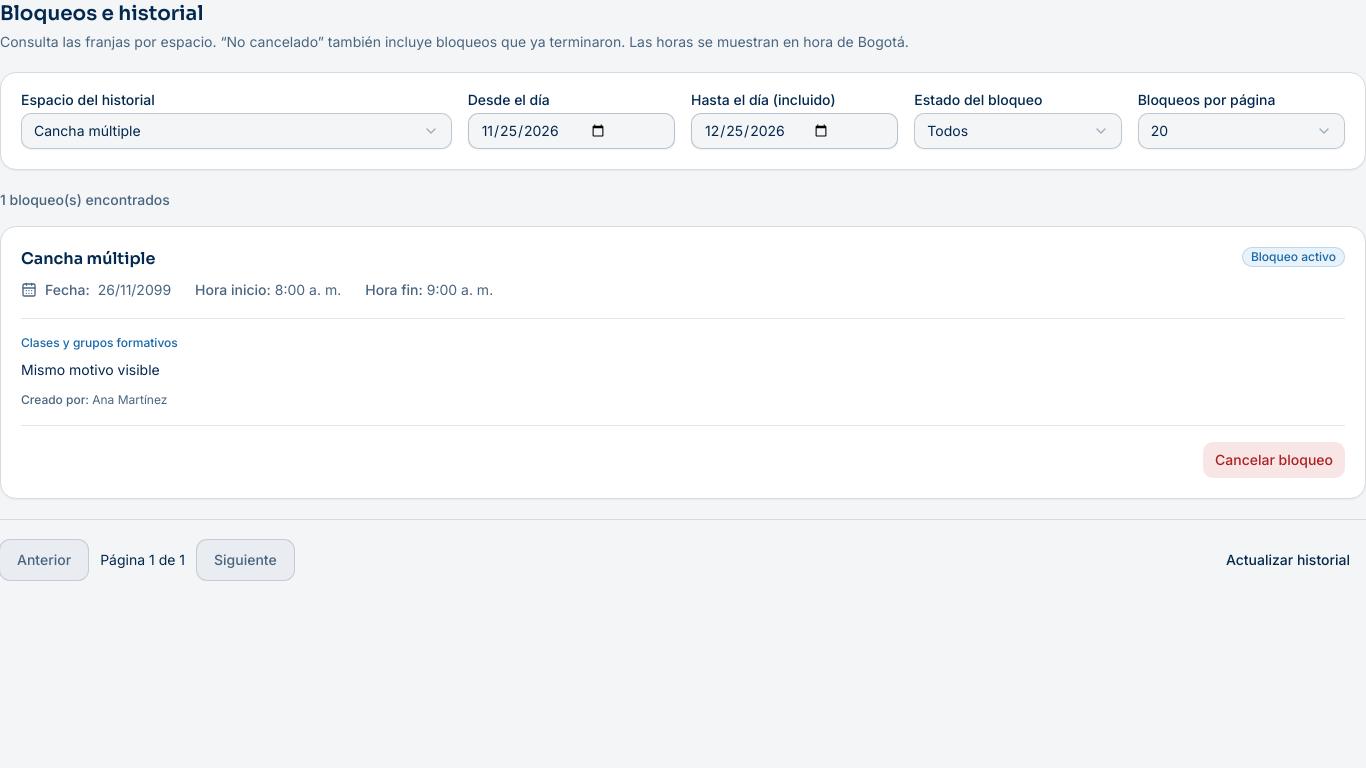
presenta el error 404 BLOCK_NOT_FOUND sin anunciar éxito
This screenshot has width=1366, height=768.
Click the button "Cancelar bloqueo". click: {"x": 1274, "y": 460}
box: [1203,442,1345,478]
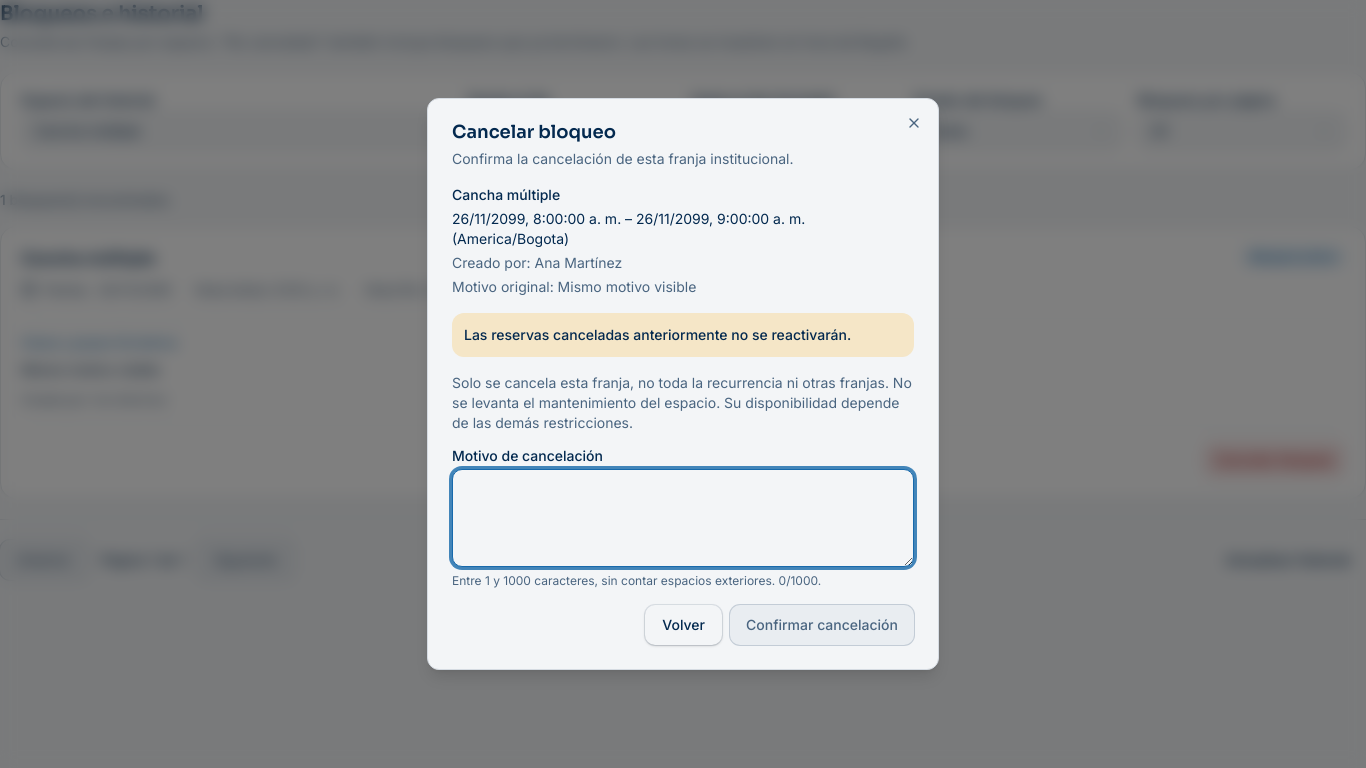
Type "Motivo" into the text box labelled "Motivo de cancelación". click: {"x": 683, "y": 518}
box: [452,469,914,567]
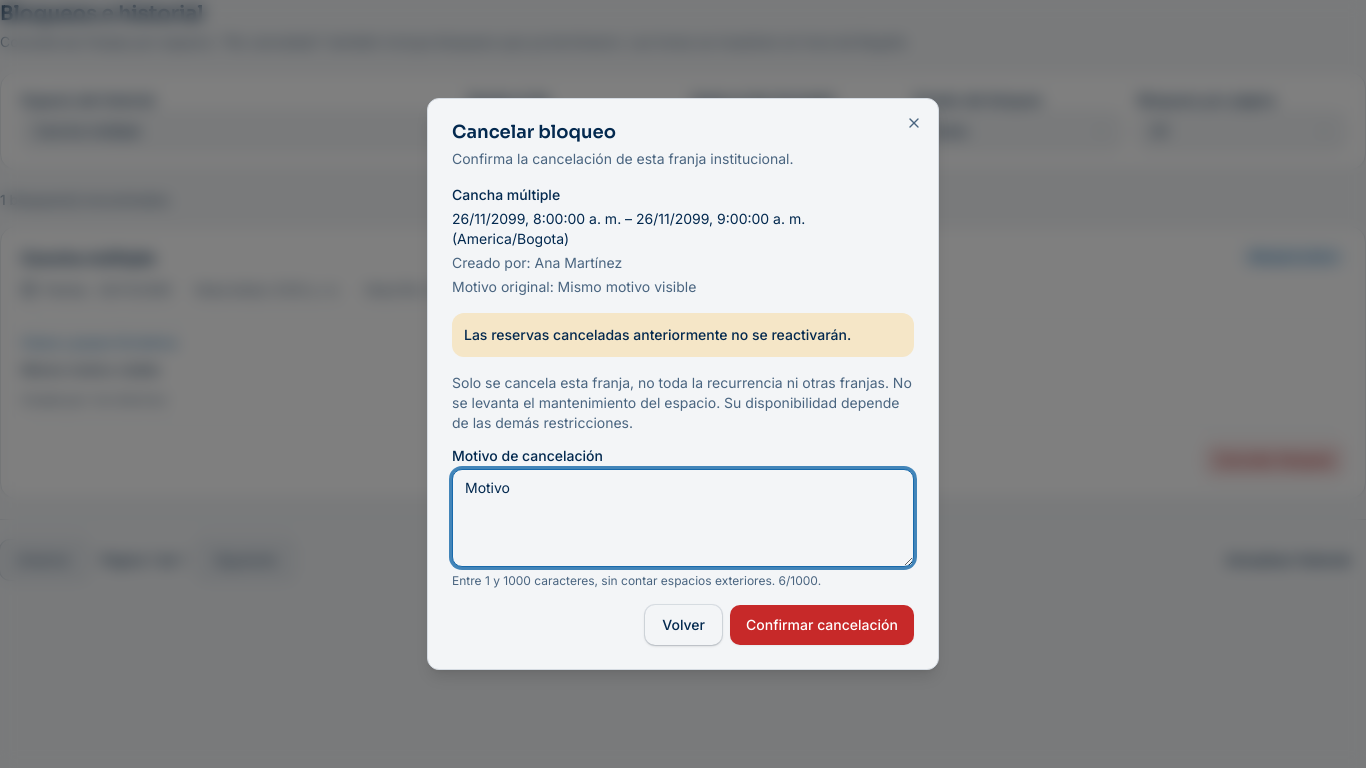
Click the button "Confirmar cancelación". click: {"x": 822, "y": 625}
box: [730,605,914,645]
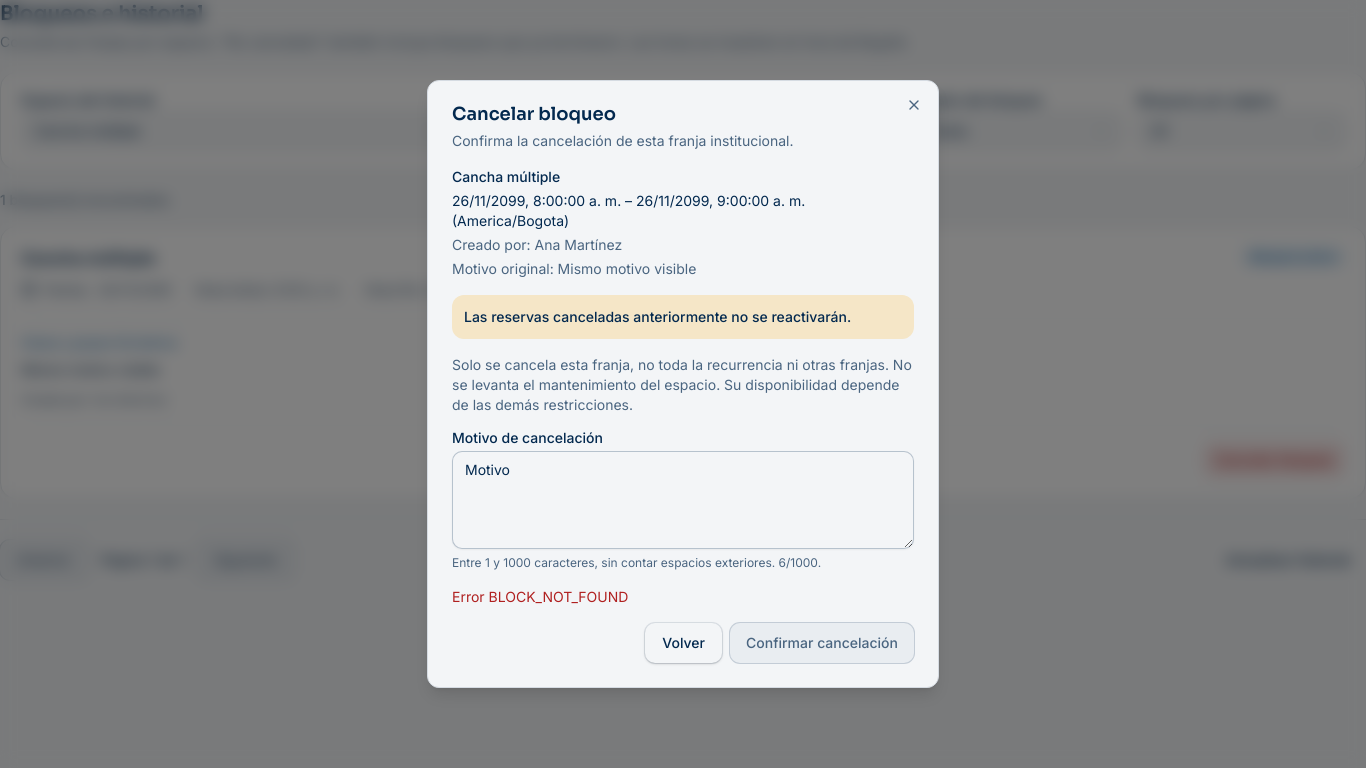
Now the button "Confirmar cancelación" is disabled, box [730,623,914,663]
